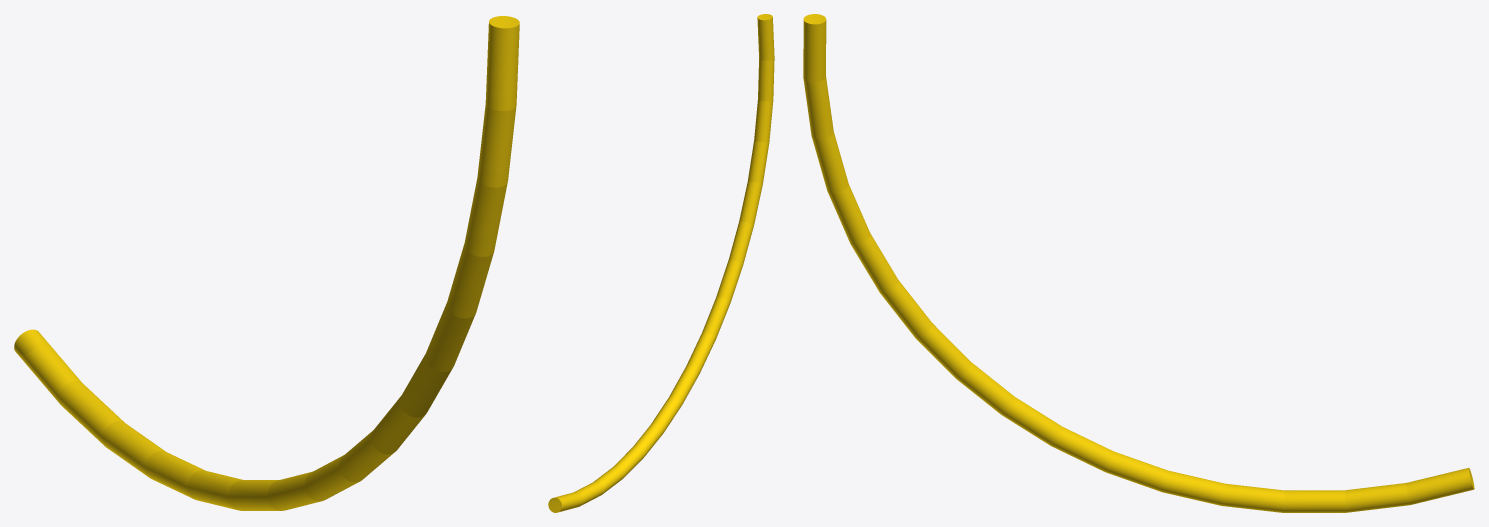
File: Event_421364160_track_41.fbx
3 renders of one model, left to right at view 1: azimuth 30°, elevation 25°; view 2: azimuth 150°, elevation 25°; view 3: azimuth 270°, elevation 25°, orthographic. The views are drawn at different scales.
Visible parts, largest first — view 1: Model; view 2: Model; view 3: Model.
Boxes of the visible parts, x1=… form: Model: x1=14, y1=16, x2=519, y2=510; Model: x1=548, y1=14, x2=774, y2=512; Model: x1=803, y1=14, x2=1474, y2=512.
Size of the model in its own units: 0.0824 by 0.9781 by 1.18.
